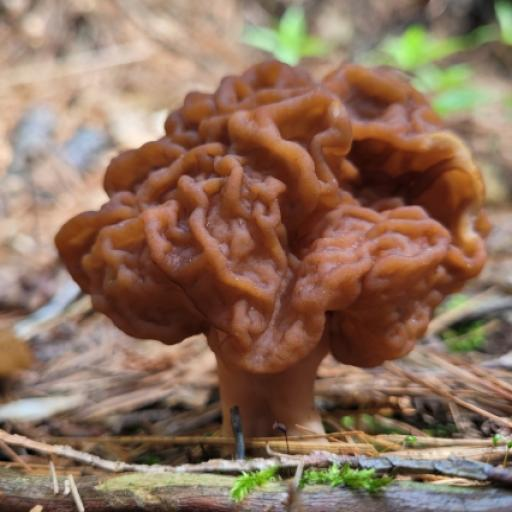False Morel: (32, 0, 512, 481)
